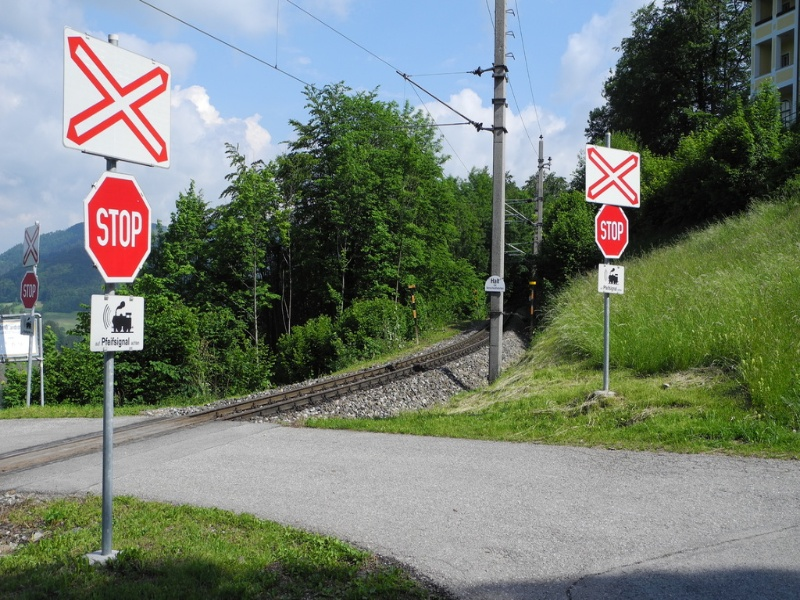no_crossing: (67, 42, 179, 158), (583, 140, 648, 204)
stop: (83, 169, 154, 284), (599, 205, 640, 268)
